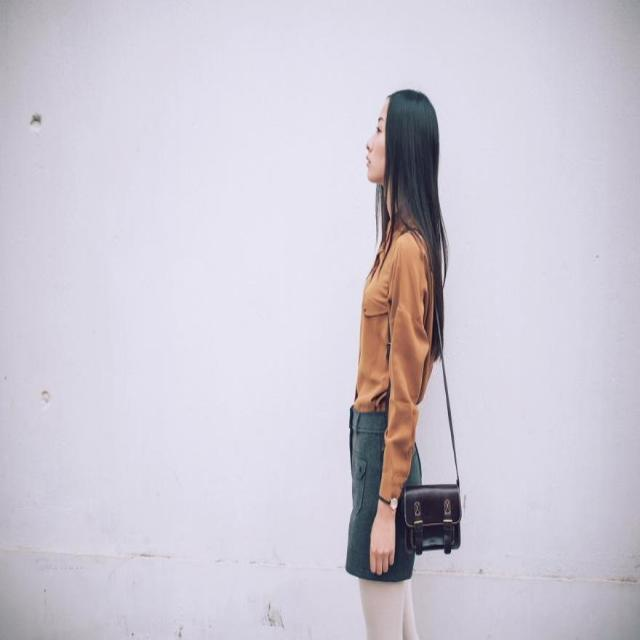long sleeve top: (353, 193, 437, 411)
skirt: (347, 408, 420, 579)
trousers: (353, 419, 419, 639)
